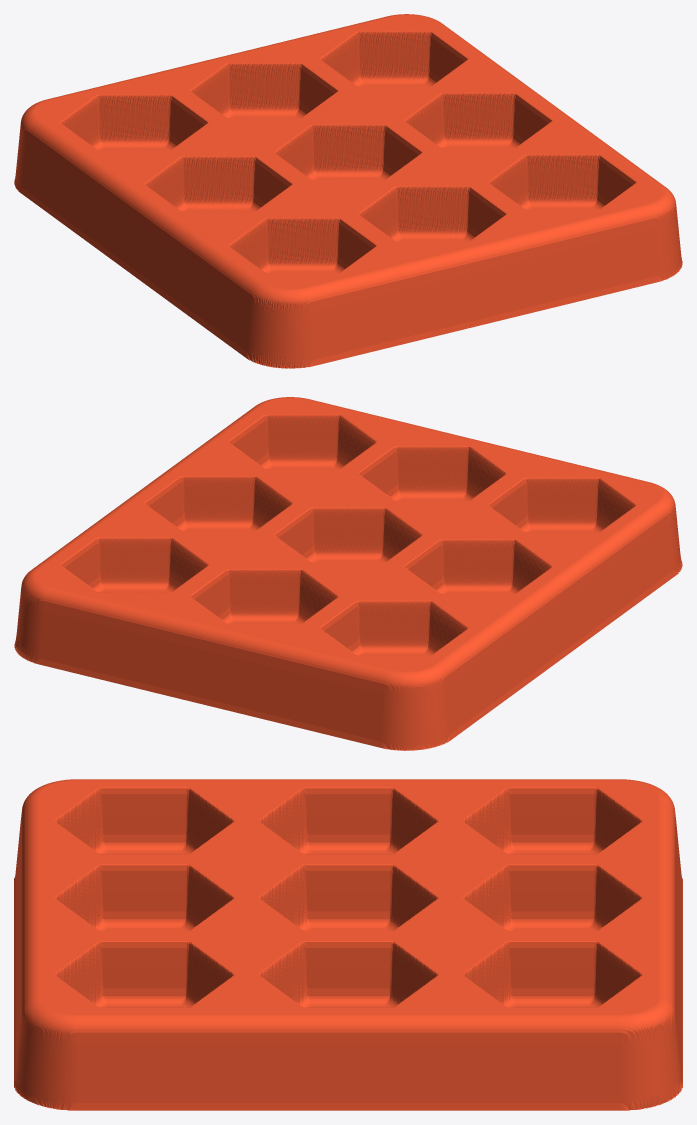
The model's file is mold.glb.
3 views of the same model, one above another, from view 1: azimuth 30°, elevation 25°; view 2: azimuth 150°, elevation 25°; view 3: azimuth 270°, elevation 25° (orthographic). The views are drawn at different scales.
Parts seen in each view (by area): view 1: geometry_0; view 2: geometry_0; view 3: geometry_0.
Part boxes in pixels (x1=…): geometry_0: x1=14, y1=14, x2=682, y2=368; geometry_0: x1=14, y1=397, x2=682, y2=750; geometry_0: x1=14, y1=779, x2=682, y2=1110.
Bounding box in the file's own units: 0.0868 × 0.0136 × 0.0964.
